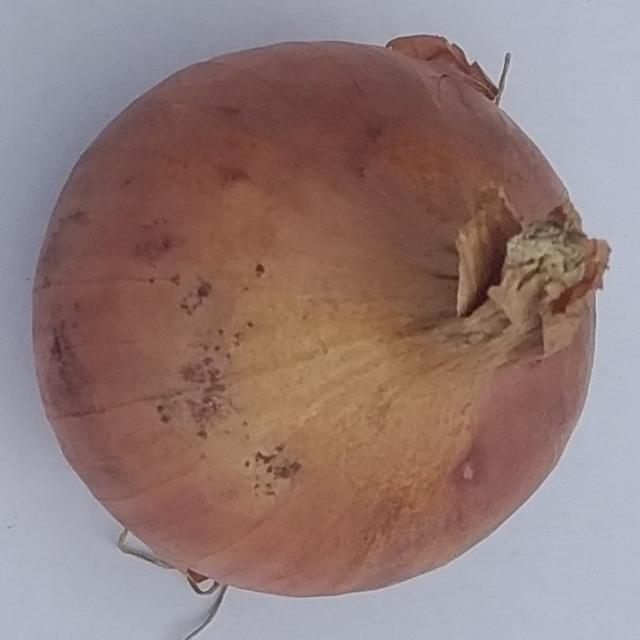onion: (30, 33, 612, 608)
